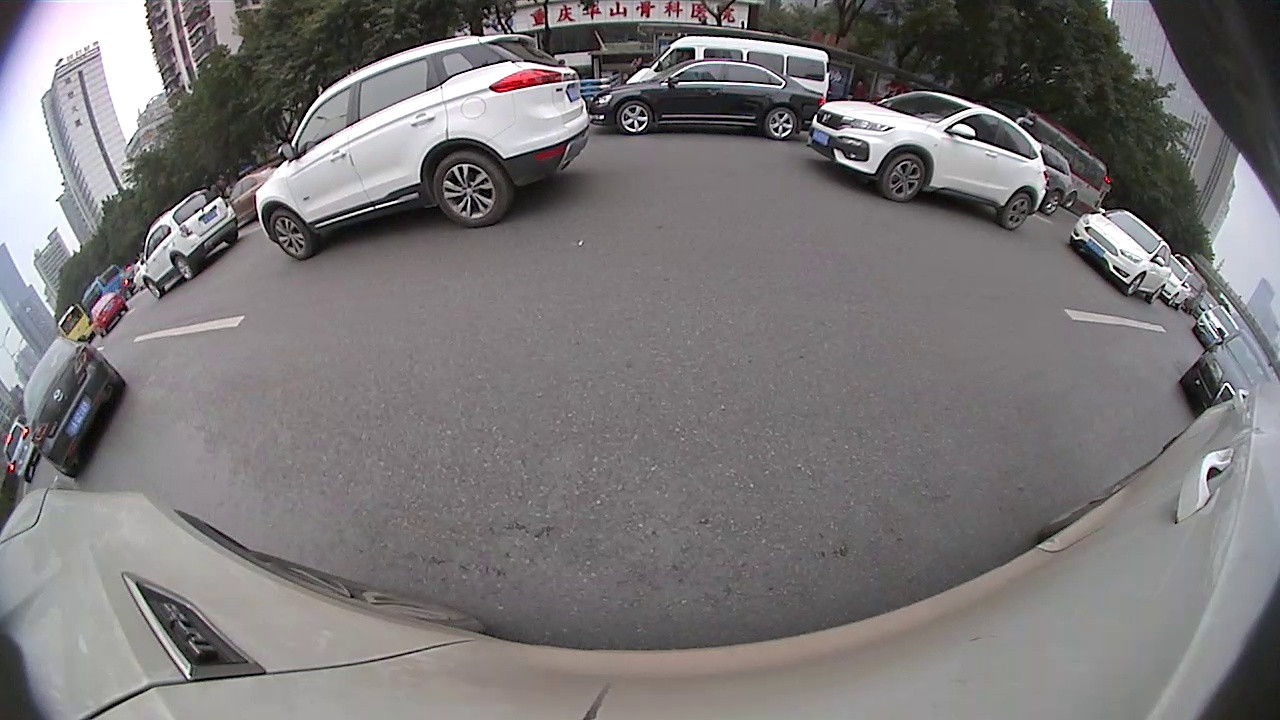bus: (983, 97, 1115, 219), (81, 262, 136, 310), (57, 304, 95, 344)
car: (255, 33, 589, 261), (810, 88, 1047, 232), (611, 34, 828, 131), (584, 59, 828, 143), (20, 338, 129, 481), (140, 190, 239, 298), (1067, 207, 1174, 304), (1177, 331, 1276, 416), (3, 414, 42, 485), (1192, 302, 1241, 350)
front: (269, 209, 315, 261), (880, 155, 927, 201), (616, 100, 654, 135), (1124, 273, 1144, 298), (143, 276, 165, 298), (1167, 294, 1178, 307)
rear: (433, 153, 511, 229), (764, 106, 797, 140), (1003, 193, 1033, 230), (1041, 191, 1062, 217), (171, 255, 193, 279), (1148, 285, 1165, 306), (1062, 192, 1078, 210), (1177, 300, 1186, 310)
